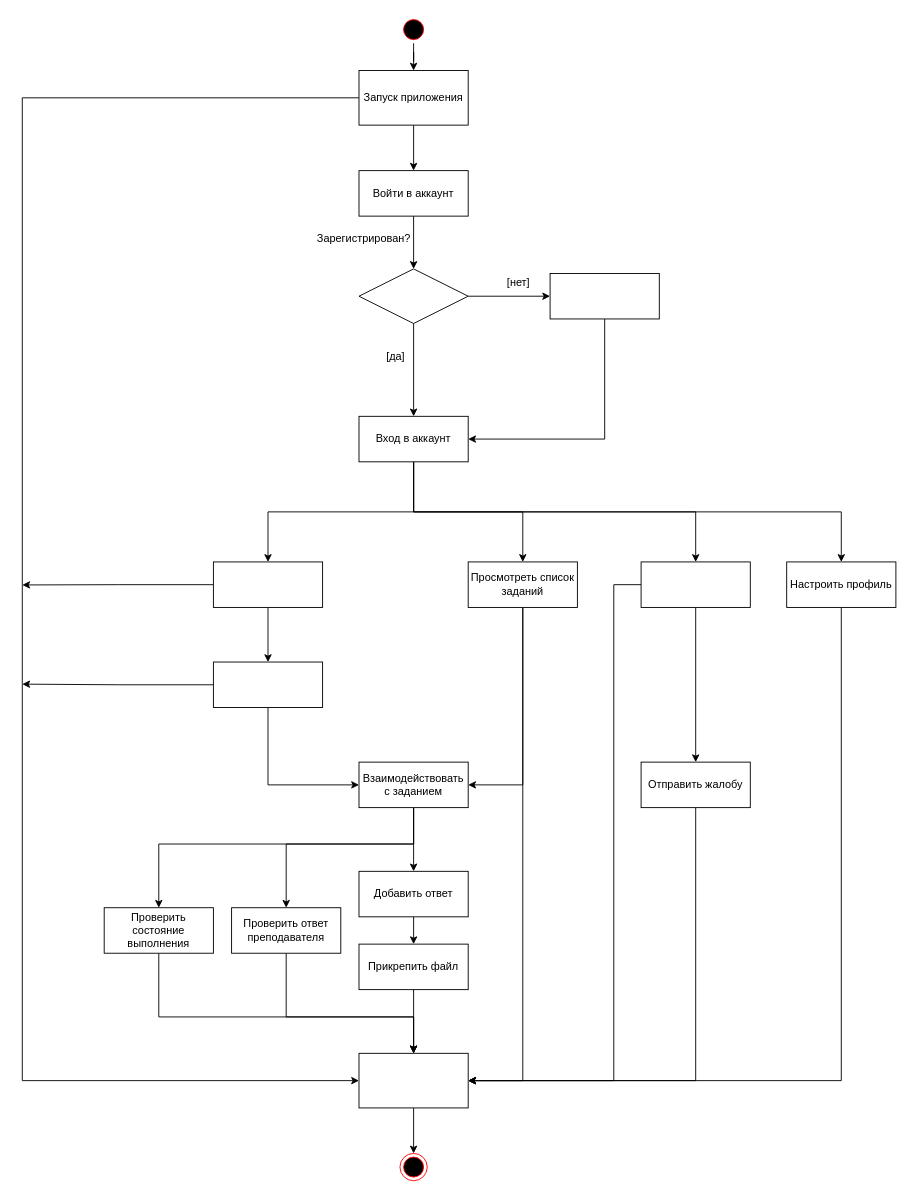
Some shapes in this 912 by 1197 pixel diagram are drawn without their labels. The box of each missing label's shape, as (x1, y1, x2, y2) in pixels:
Выйти из приложения: (358, 1052, 468, 1108)
Просмотреть календарь: (212, 561, 323, 607)
Просмотреть конкретный день: (212, 661, 323, 708)
Просмотреть профиль другого пользователя: (640, 561, 750, 607)
Регистрация: (549, 273, 659, 319)
